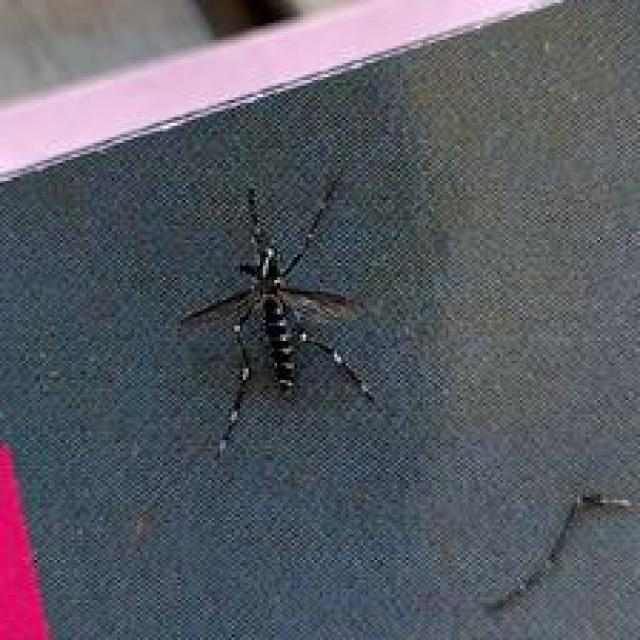Aedes albopictus: (174, 169, 377, 457)
